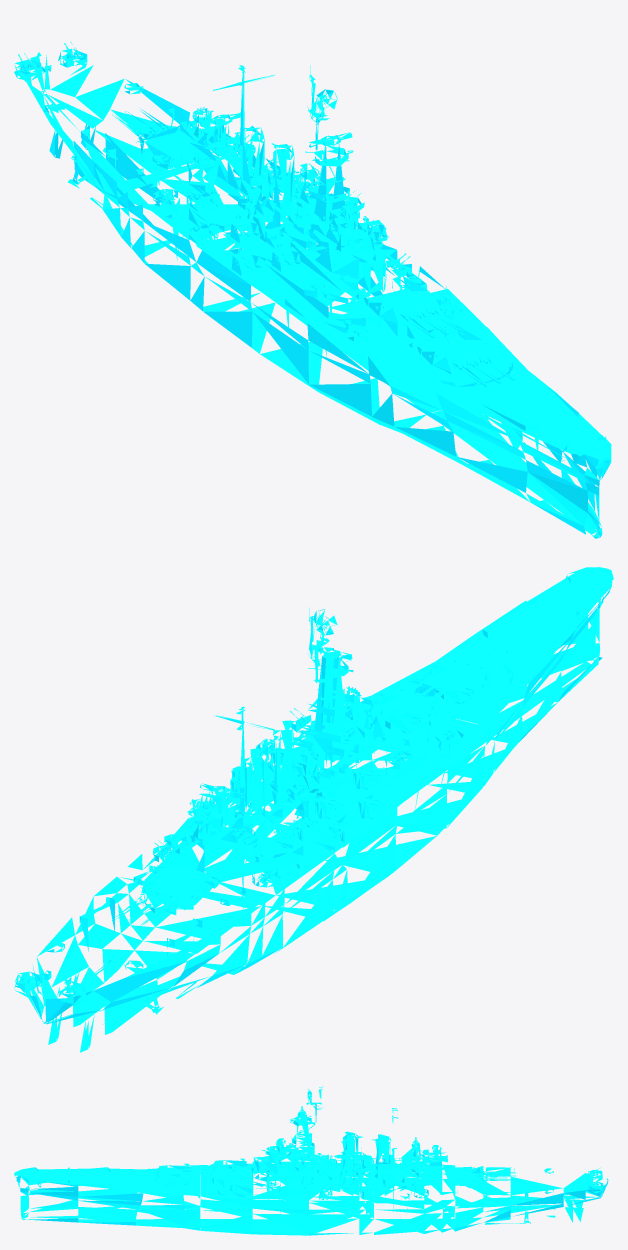
Rendered from PASB808.glb.
3 views of the same model, one above another, from view 1: azimuth 30°, elevation 25°; view 2: azimuth 150°, elevation 25°; view 3: azimuth 270°, elevation 25° (orthographic). The views are drawn at different scales.
Parts seen in each view (by area): view 1: hull_mid, hull_bow, hull_stern, main_battery, secondary_battery, aa_mount, hull_body, superstructure; view 2: hull_mid, hull_bow, hull_stern, main_battery, secondary_battery, aa_mount, hull_body, superstructure; view 3: hull_mid, hull_bow, hull_stern, main_battery, secondary_battery, aa_mount.
Boxes of the visible parts, x1,y1,x2,y2 form: hull_mid: (128,65,485,424); hull_bow: (368,327,611,538); hull_stern: (14,48,255,256); main_battery: (112,108,514,387); secondary_battery: (187,170,389,275); aa_mount: (18,41,459,336); hull_body: (192,107,360,220); superstructure: (200,89,352,147); hull_mid: (127,607,486,966); hull_bow: (369,567,613,792); hull_stern: (14,865,265,1052); main_battery: (112,642,515,927); secondary_battery: (187,745,389,850); aa_mount: (17,705,459,995); hull_body: (191,686,361,824); superstructure: (200,609,352,798); hull_mid: (200,1086,447,1235); hull_bow: (14,1167,200,1230); hull_stern: (440,1164,608,1232); main_battery: (123,1158,516,1186); secondary_battery: (293,1154,402,1199); aa_mount: (220,1137,600,1195).
Bounding box in the file's own units: 2.24 × 3.81 × 14.94.
